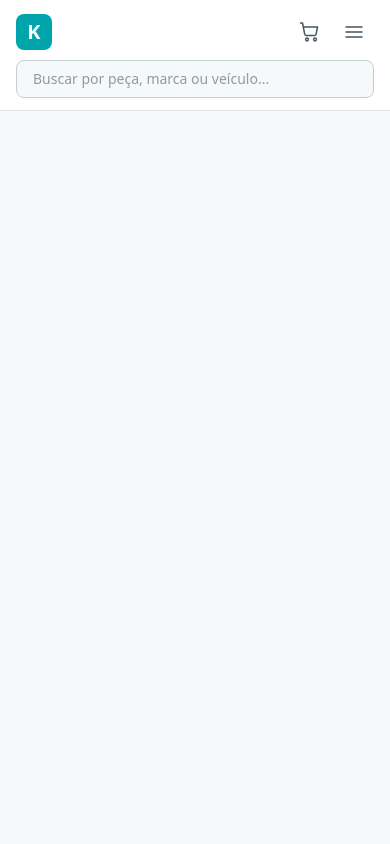
Test: Cabecalho - menu do hamburguer › alterna o estado do hamburguer ao abrir e ao fechar
Click the button named "abrir menu": click(354, 32) [334,12,374,52]
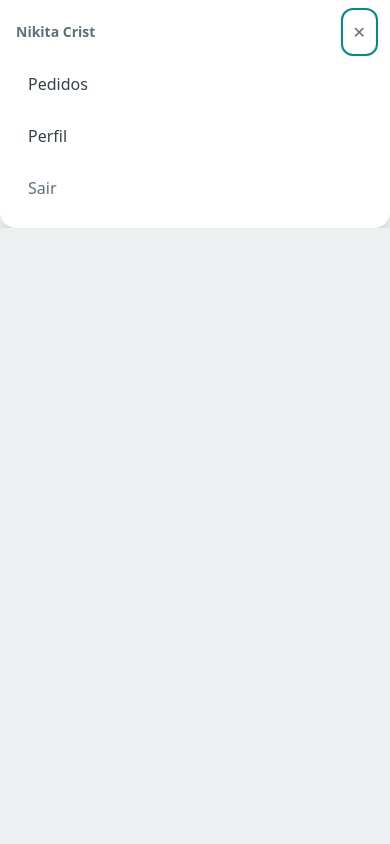
Result: the button named "abrir menu" is expanded at [334,12,374,52]
Click the button named "fechar menu": click(359, 32) [345,12,374,52]
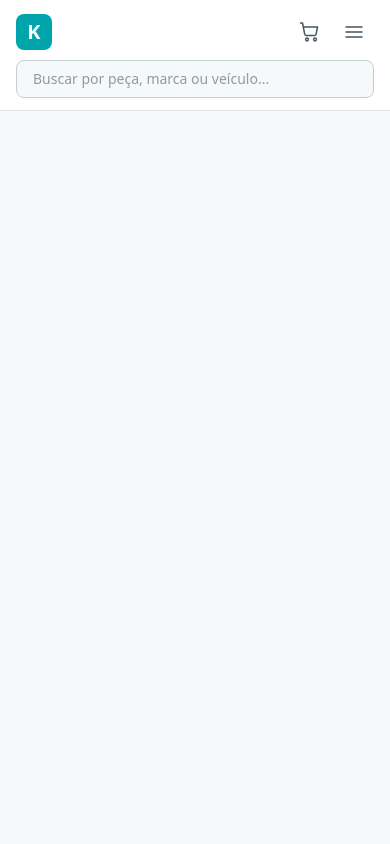
Result: the button named "abrir menu" is collapsed at [334,12,374,52]
